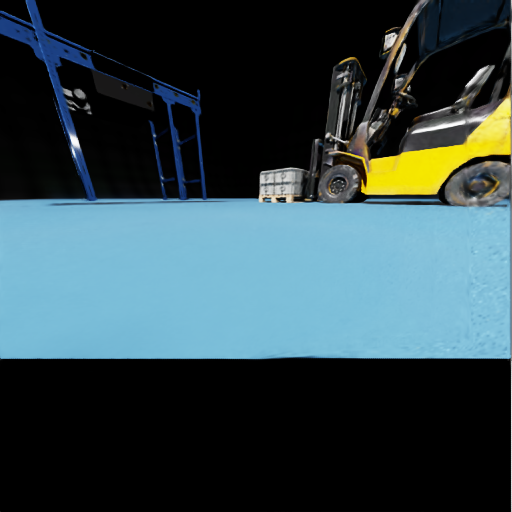transportation_area: (275, 182, 307, 194), (34, 37, 37, 40), (65, 50, 67, 52), (17, 31, 19, 32)
